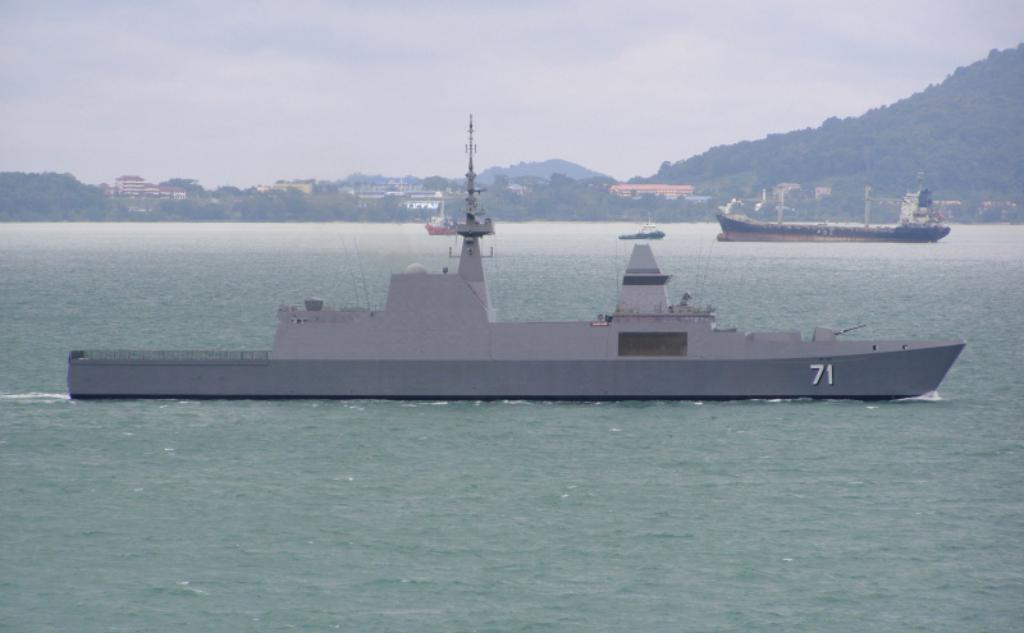Warship: (54, 104, 978, 406)
